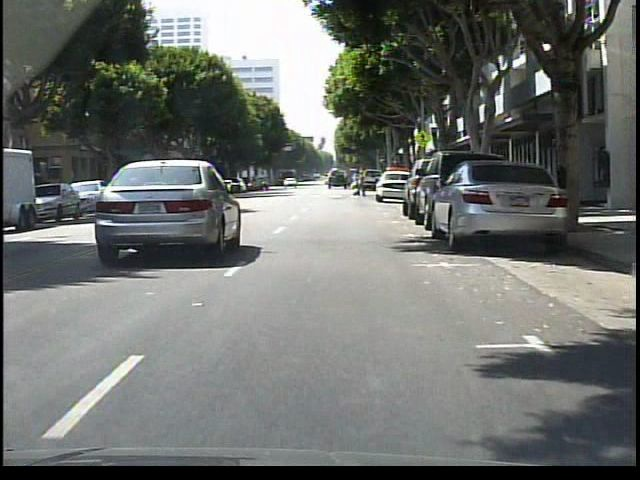person: (353, 167, 367, 196)
